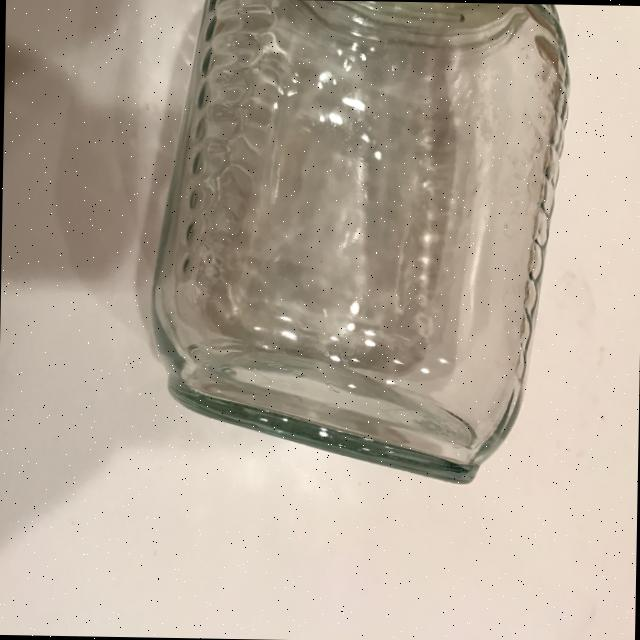glass: (145, 0, 571, 486)
